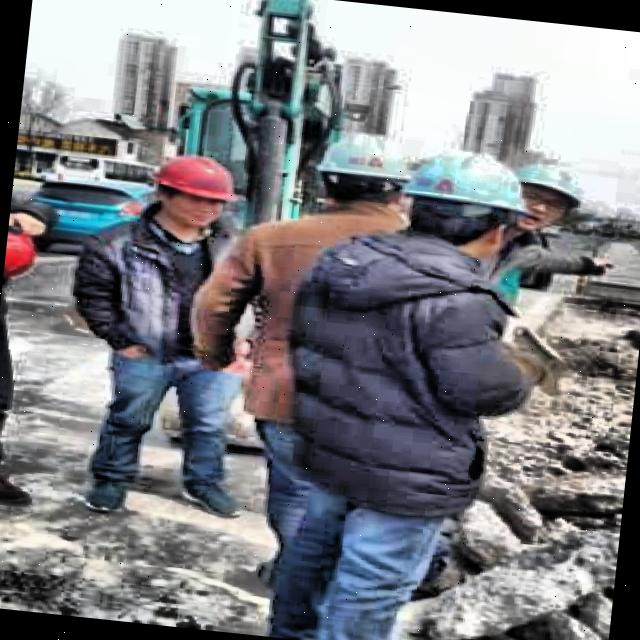helmet: (396, 142, 530, 252), (310, 115, 423, 228), (141, 141, 245, 234), (506, 147, 596, 235)
